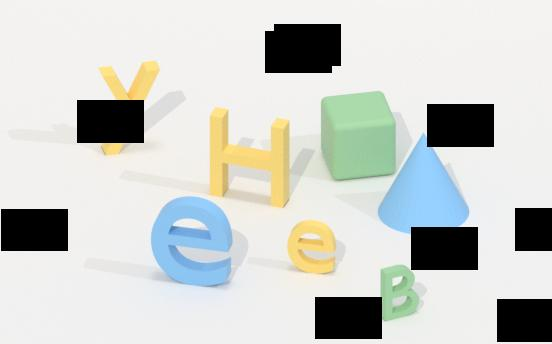H-hoa: (204, 108, 292, 207)
Y: (91, 62, 162, 156)
b: (376, 263, 424, 321)
e: (147, 199, 239, 287), (285, 220, 342, 276)
hop: (315, 89, 400, 182)
non: (376, 140, 473, 233)
